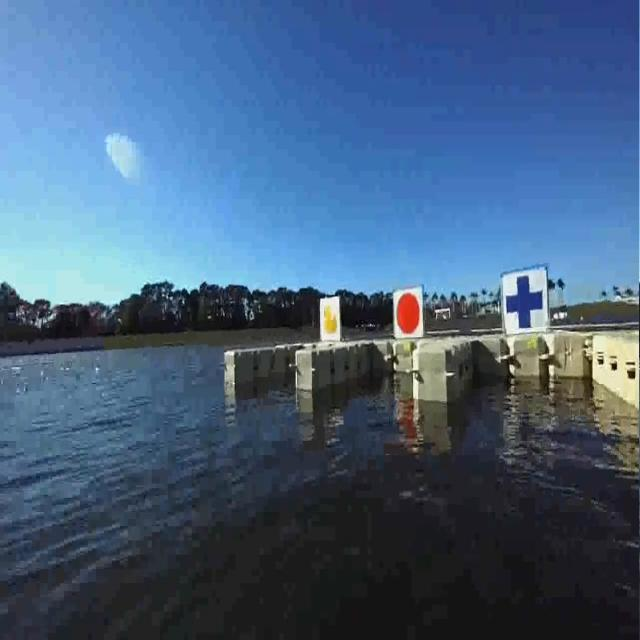blue-cross: (501, 269, 547, 343)
red-dot: (394, 283, 429, 341)
yellow-duck: (315, 298, 342, 343)
